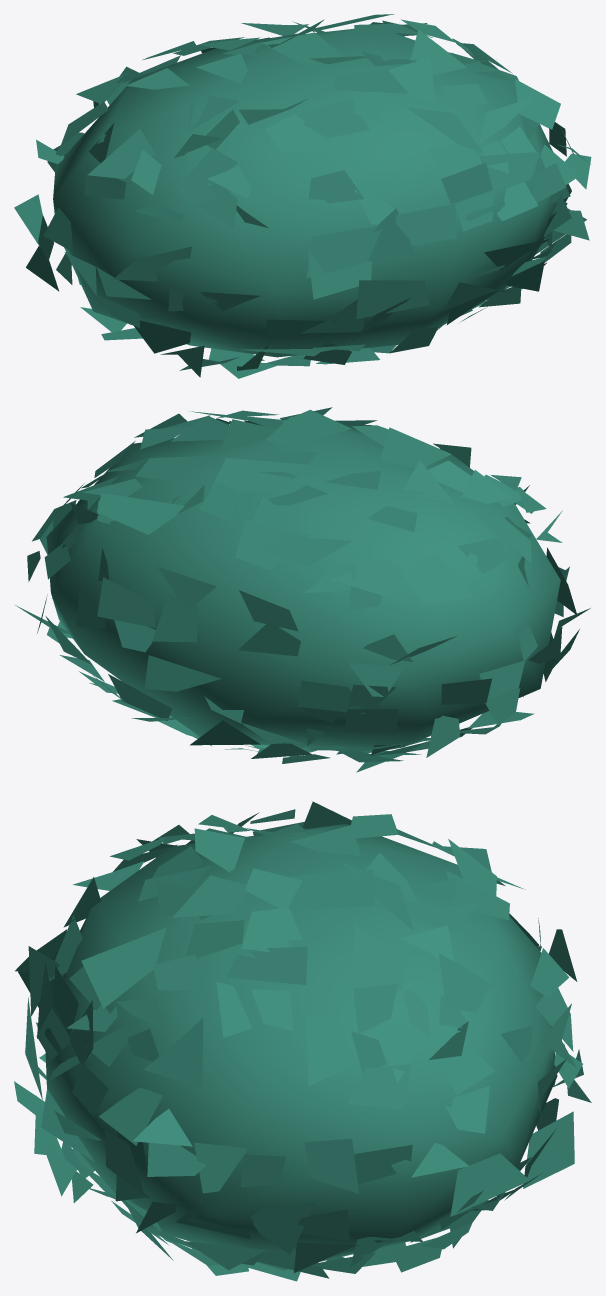
Rendered from buisson3.fbx.
The picture shows the model from 3 angles, top to bottom: view 1: azimuth 30°, elevation 25°; view 2: azimuth 150°, elevation 25°; view 3: azimuth 270°, elevation 25°; orthographic projection. The views are drawn at different scales.
Parts seen in each view (by area): view 1: Buisson_3; view 2: Buisson_3; view 3: Buisson_3.
Boxes of the visible parts, left/top/right/bottom form: Buisson_3: left=14, top=14, right=591, bottom=378; Buisson_3: left=15, top=407, right=590, bottom=772; Buisson_3: left=14, top=801, right=591, bottom=1281.
Bounding box in the file's own units: 2.24 × 1.24 × 1.84.
